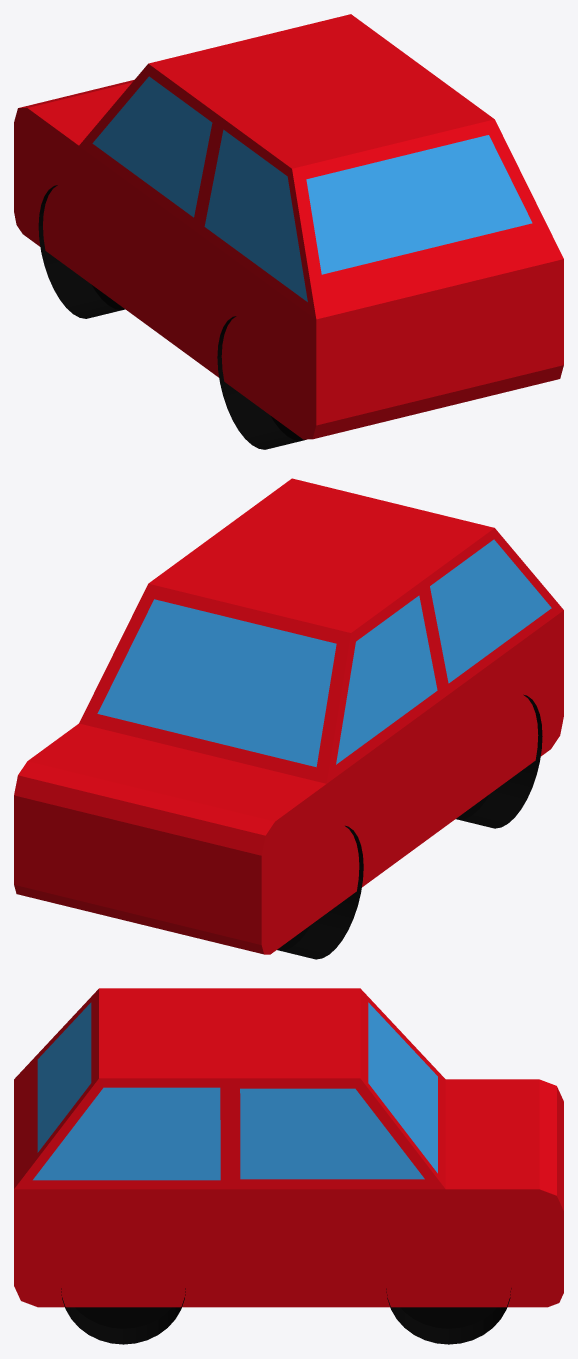
Rendered from car.glb.
The picture shows the model from 3 angles, top to bottom: view 1: azimuth 30°, elevation 25°; view 2: azimuth 150°, elevation 25°; view 3: azimuth 270°, elevation 25°; orthographic projection. The views are drawn at different scales.
Visible parts, largest first — view 1: Cube, Cylinder.002, Cylinder.001; view 2: Cube, Cylinder.002, Cylinder.001; view 3: Cube, Cylinder, Cylinder.003.
Boxes of the visible parts, bbox=[...] form: Cube: bbox=[14, 14, 563, 439]; Cylinder.002: bbox=[217, 316, 305, 449]; Cylinder.001: bbox=[38, 185, 125, 318]; Cube: bbox=[14, 478, 563, 954]; Cylinder.002: bbox=[456, 694, 542, 828]; Cylinder.001: bbox=[277, 825, 363, 959]; Cube: bbox=[14, 988, 563, 1307]; Cylinder: bbox=[386, 1288, 511, 1344]; Cylinder.003: bbox=[61, 1288, 185, 1344].
Bounding box in the file's own units: 2.07 × 2.16 × 4.23.
